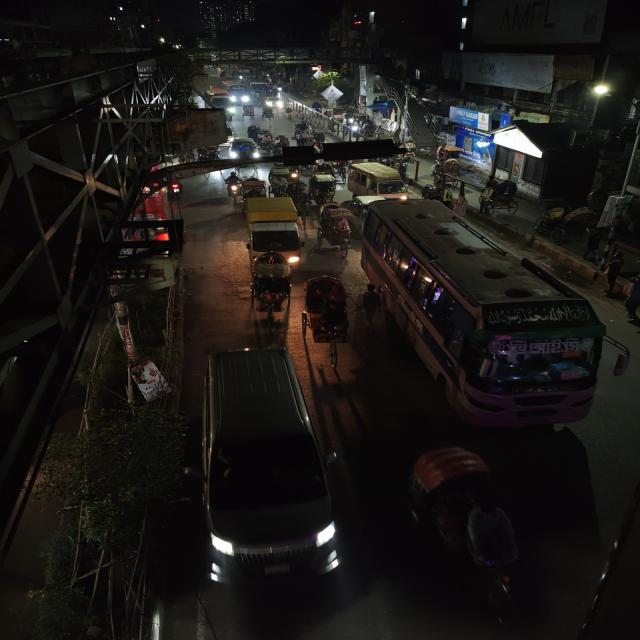bus: (356, 200, 618, 432), (222, 79, 252, 105), (208, 91, 233, 110)
car: (199, 348, 333, 590), (228, 136, 260, 162)
human_hauler: (237, 196, 306, 267), (347, 160, 413, 200)
motorcycle: (223, 171, 243, 204)
pedestrian: (596, 250, 630, 293)
rickshaw: (299, 272, 354, 366), (249, 259, 295, 326), (315, 200, 358, 256), (232, 176, 269, 204), (306, 173, 337, 203), (288, 180, 314, 210), (293, 122, 314, 144), (240, 104, 258, 120), (273, 133, 290, 149), (261, 104, 274, 123)
